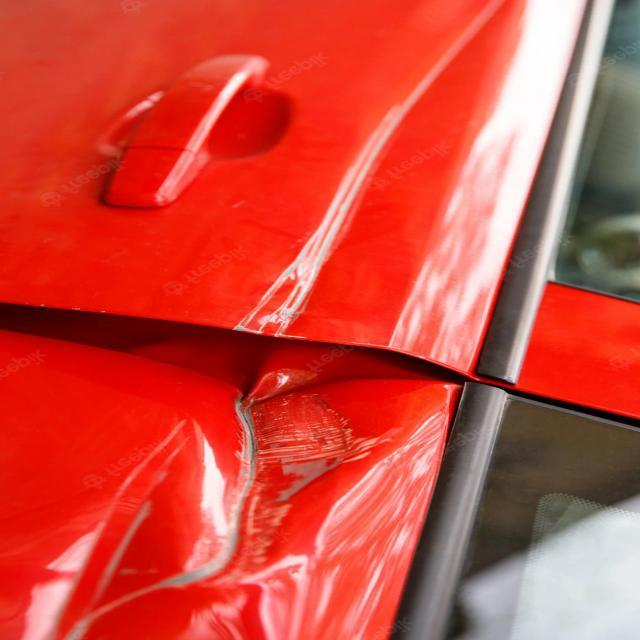dent: (6, 283, 512, 640)
